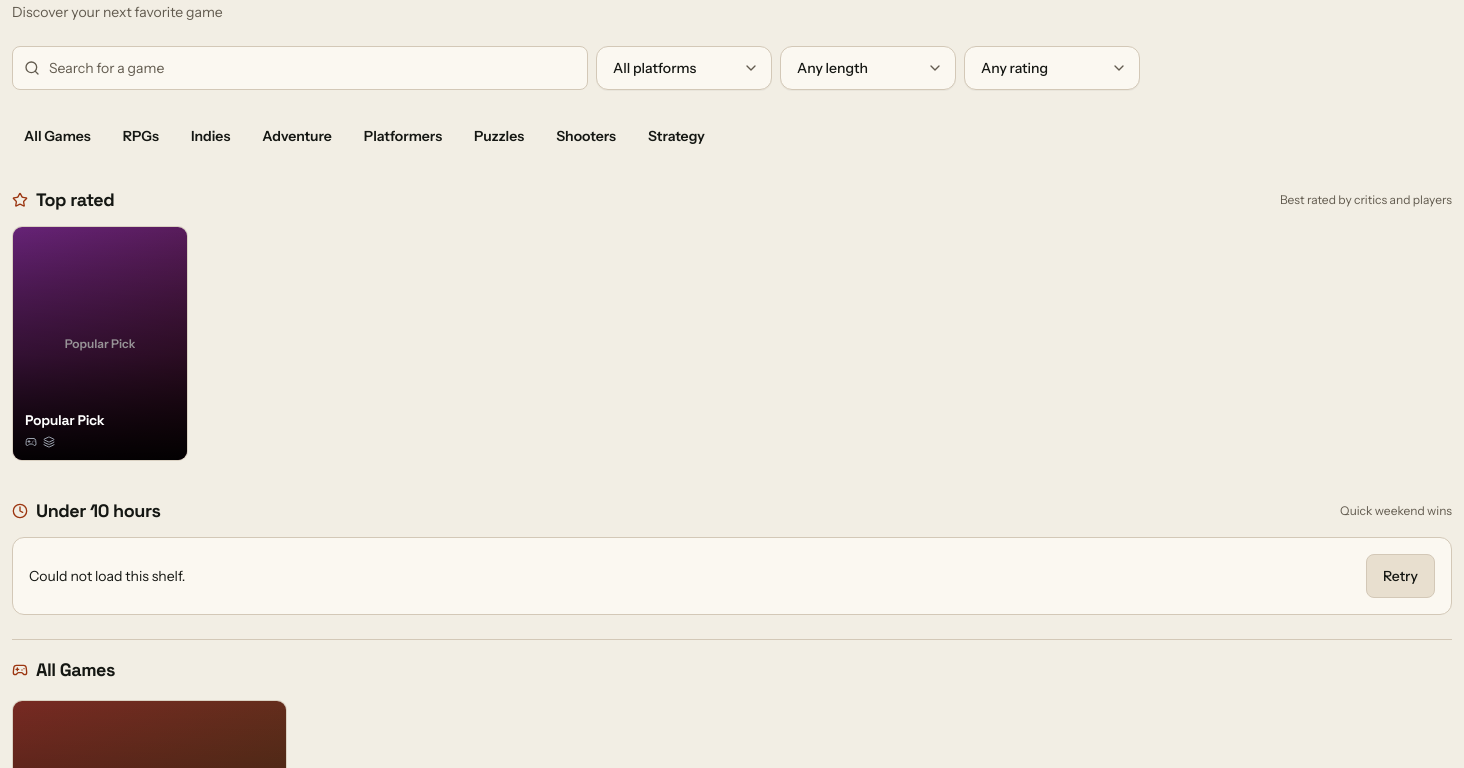
Test: Explore rails › scopes a failing rail to itself, with Retry, while everything else still shows
This screenshot has width=1464, height=768.
Expected: the message shows "Could not load this shelf", [29,567,185,585]
Expected: the link "Popular Pick Popular Pick" is shown, [12,226,188,461]
Click the button with aria-label "Retry Under 10 hours".
click(1400, 576)  # box [1366,554,1435,598]
(page scrolled)
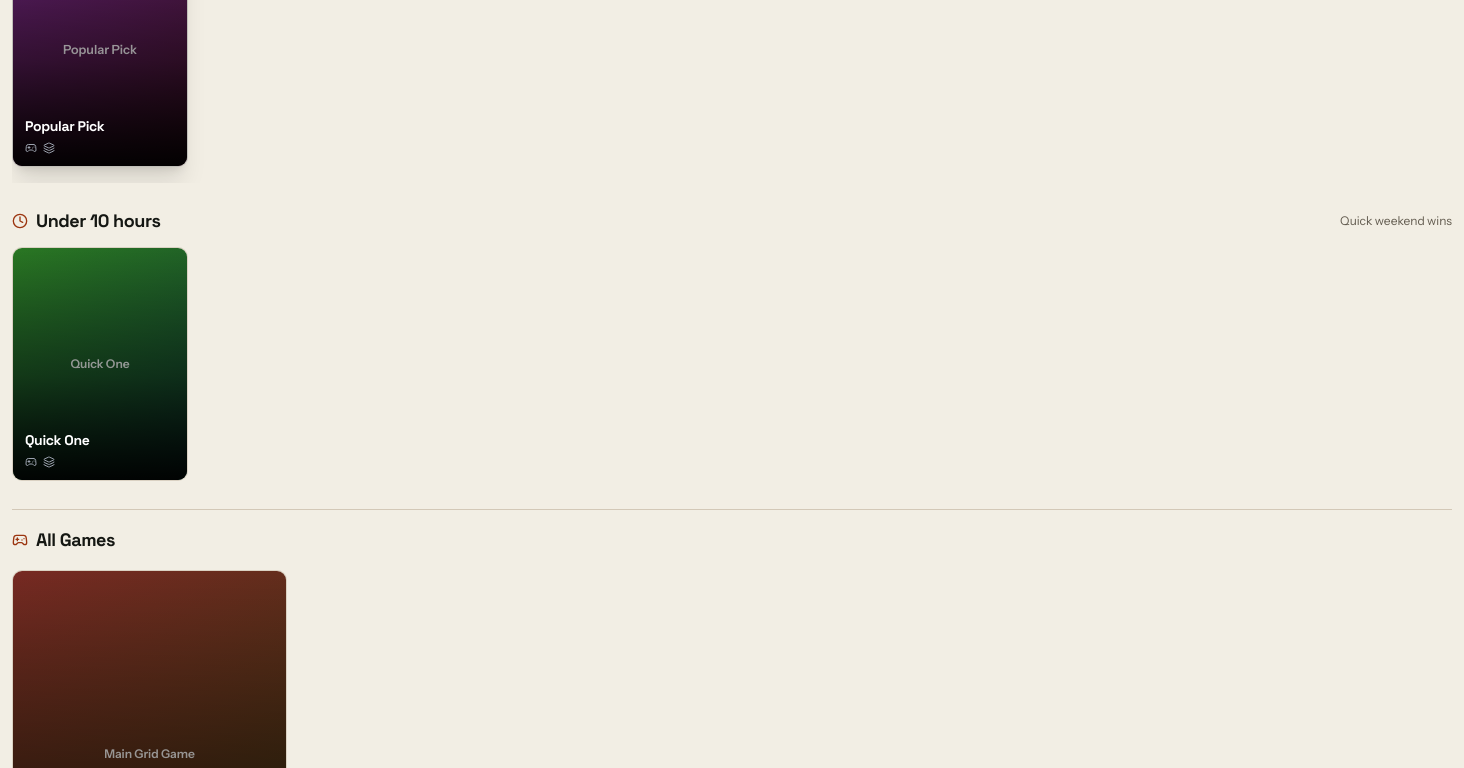
Now the link "Quick One Quick One" is shown, box [12,247,188,481]
Now the message "Could not load this shelf. Retry" is gone
